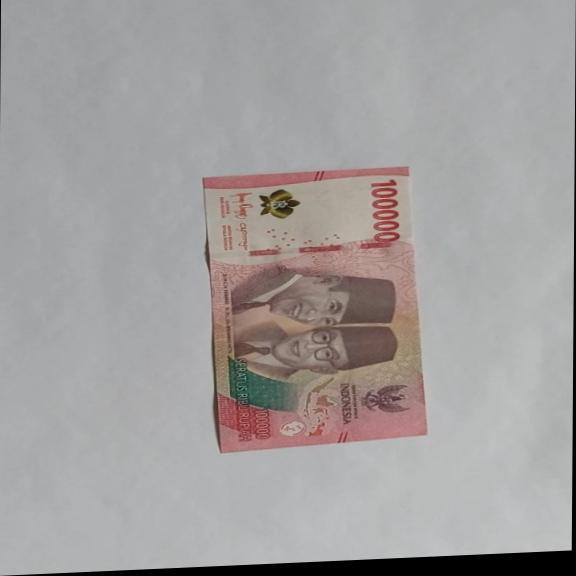Kertas: (200, 165, 430, 455), (368, 178, 403, 244)
